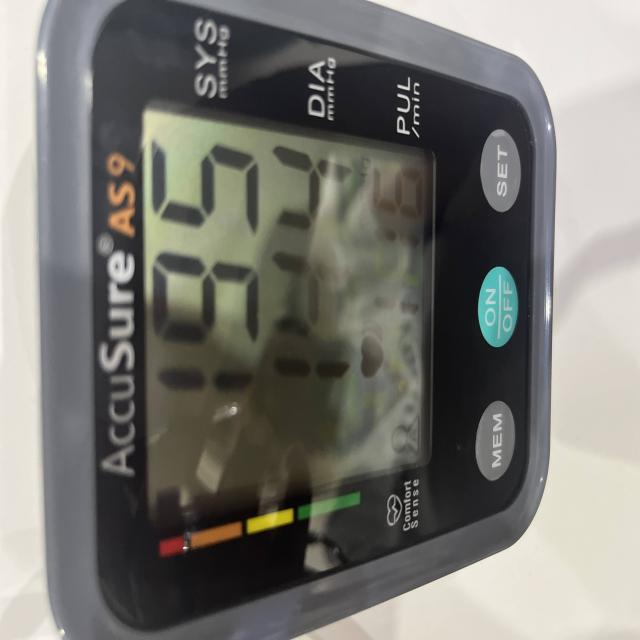bp: (0, 0, 558, 640)
